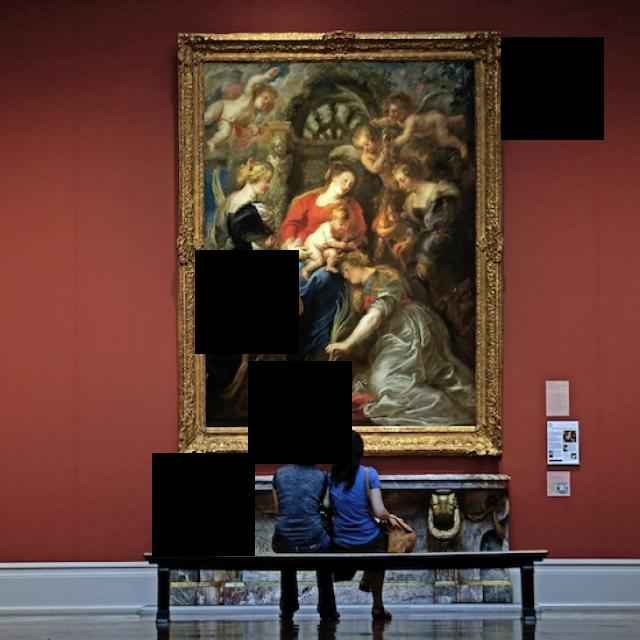Tablo: (203, 58, 478, 427)
